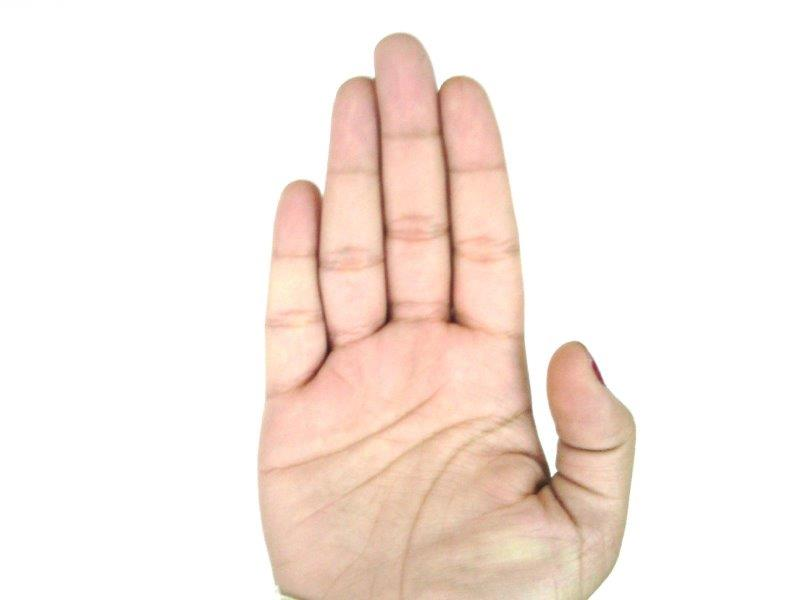hand: (257, 31, 637, 593)
